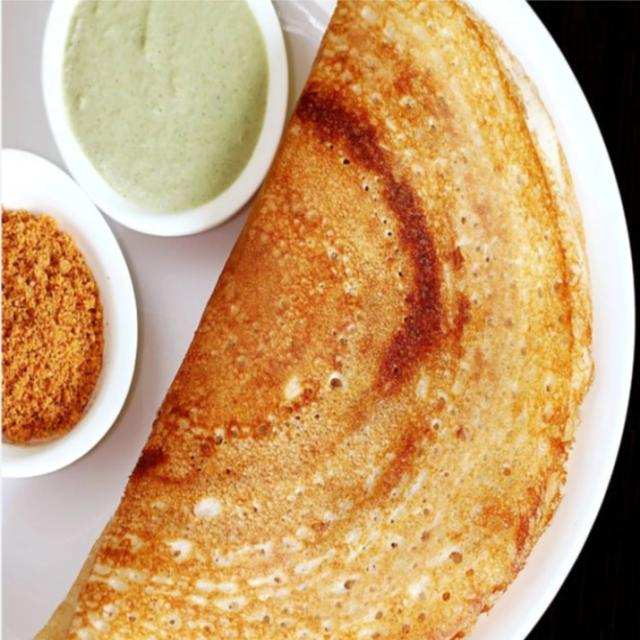DOSA: (46, 0, 592, 639)
PODI: (2, 208, 102, 444)
WHITE CHUTNEY: (42, 0, 289, 236)
